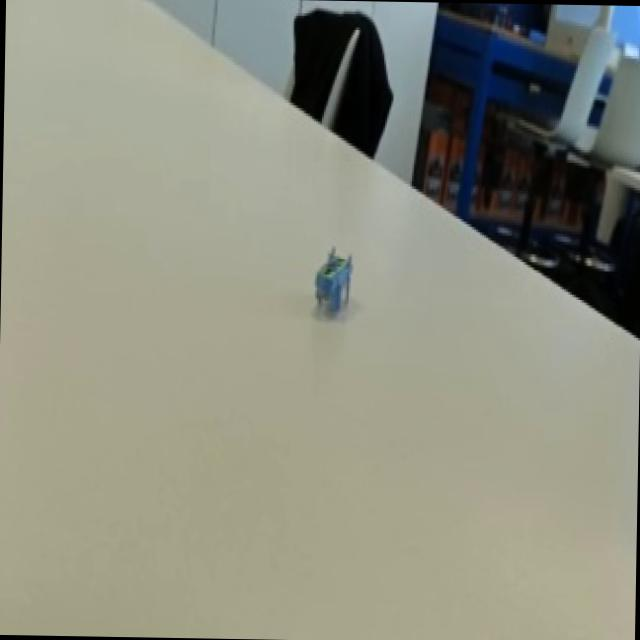3_NanoBug_Celeste: (271, 228, 383, 348)
